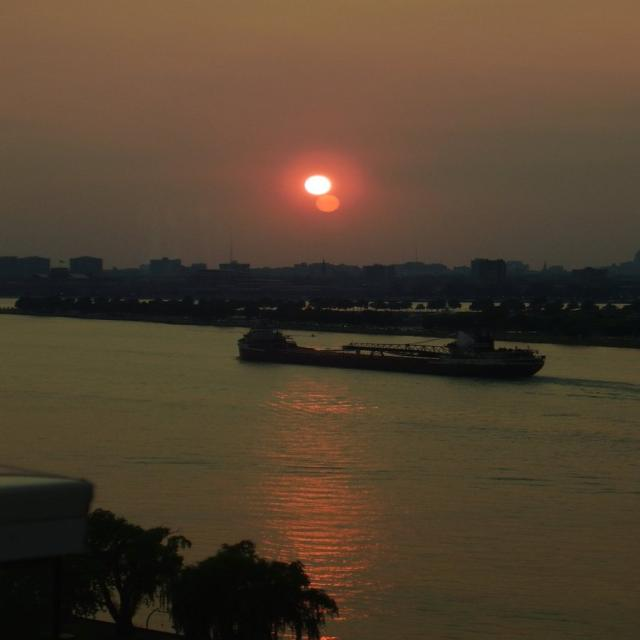Boat: (212, 302, 552, 397)
